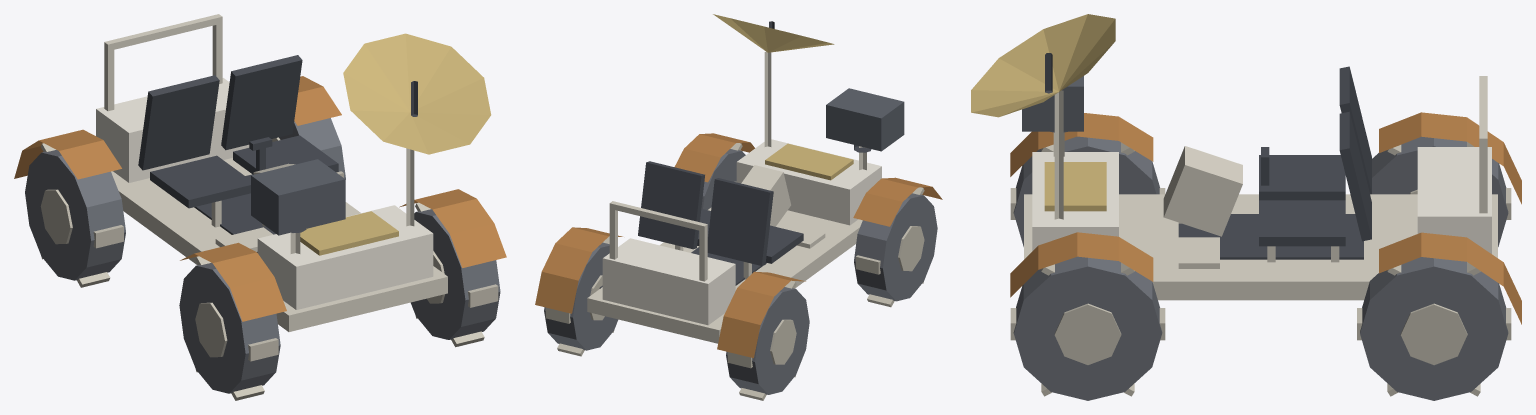
The model's file is lrv.glb.
3 renders of one model, left to right at view 1: azimuth 30°, elevation 25°; view 2: azimuth 150°, elevation 25°; view 3: azimuth 270°, elevation 25°, orthographic. The views are drawn at different scales.
Visible parts, largest first — view 1: body, antenna, wheel_RR, wheel_FR, wheel_FL, head, fender_RR, wheel_RL; view 2: body, wheel_FR, wheel_RR, head, wheel_RL, fender_RR, antenna, wheel_FL; view 3: body, wheel_FL, wheel_RL, antenna, wheel_RR, wheel_FR, fender_RR, head.
Part boxes in pixels (x1=…): body: x1=96, y1=14, x2=506, y2=331; antenna: x1=343, y1=33, x2=491, y2=226; wheel_RR: x1=25, y1=143, x2=125, y2=287; wheel_FR: x1=179, y1=256, x2=280, y2=400; wheel_FL: x1=411, y1=202, x2=500, y2=347; head: x1=251, y1=159, x2=345, y2=253; fender_RR: x1=14, y1=129, x2=121, y2=179; wheel_RL: x1=272, y1=118, x2=345, y2=179; body: x1=535, y1=133, x2=942, y2=343; wheel_FR: x1=854, y1=187, x2=937, y2=307; wheel_RR: x1=726, y1=280, x2=809, y2=400; head: x1=826, y1=88, x2=904, y2=170; wheel_RL: x1=544, y1=236, x2=618, y2=356; fender_RR: x1=717, y1=271, x2=805, y2=358; antenna: x1=713, y1=14, x2=834, y2=146; wheel_FL: x1=701, y1=143, x2=745, y2=209; body: x1=1010, y1=66, x2=1521, y2=324; wheel_FL: x1=1010, y1=256, x2=1165, y2=400; wheel_RL: x1=1357, y1=257, x2=1511, y2=400; antenna: x1=971, y1=14, x2=1115, y2=219; wheel_RR: x1=1372, y1=136, x2=1511, y2=246; wheel_FR: x1=1010, y1=136, x2=1165, y2=246; fender_RR: x1=1379, y1=112, x2=1521, y2=204; head: x1=1022, y1=76, x2=1083, y2=156.
Bounding box in the file's own units: 1.66 × 1.78 × 2.67.
